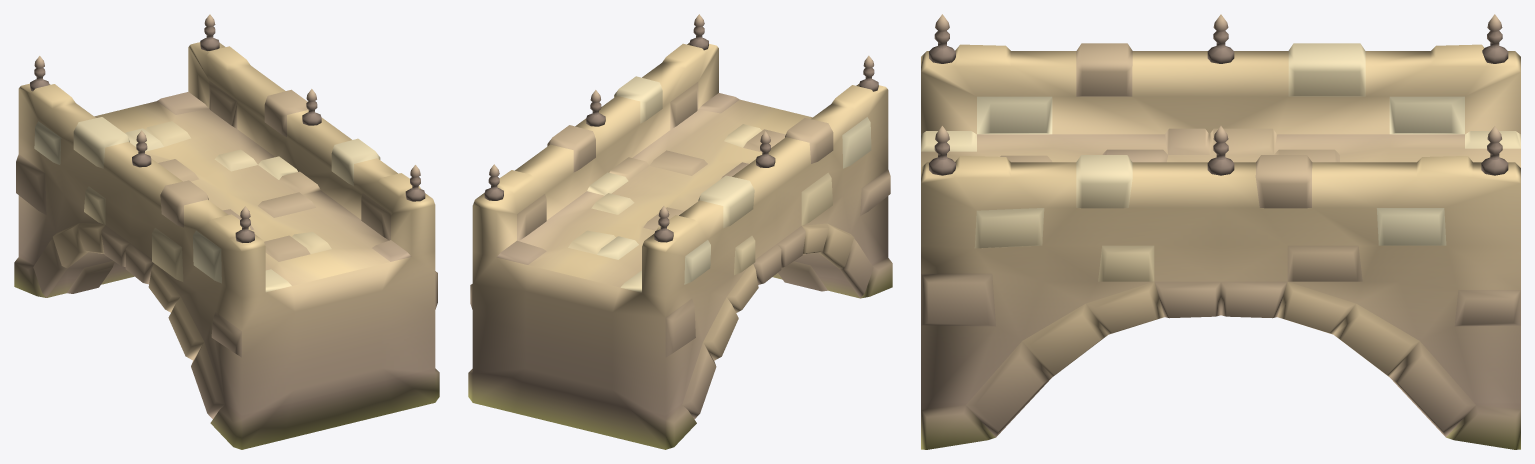
The model's file is bridgeWSpikes.fbx.
3 renders of one model, left to right at view 1: azimuth 30°, elevation 25°; view 2: azimuth 150°, elevation 25°; view 3: azimuth 270°, elevation 25°, orthographic. The views are drawn at different scales.
Parts seen in each view (by area): view 1: bridgeWSpikes; view 2: bridgeWSpikes; view 3: bridgeWSpikes.
Part boxes in pixels (<box>): bridgeWSpikes: <box>14,14,439,449</box>; bridgeWSpikes: <box>468,14,892,449</box>; bridgeWSpikes: <box>921,14,1520,449</box>.
Size of the model in its own units: 428 by 465 by 800.
